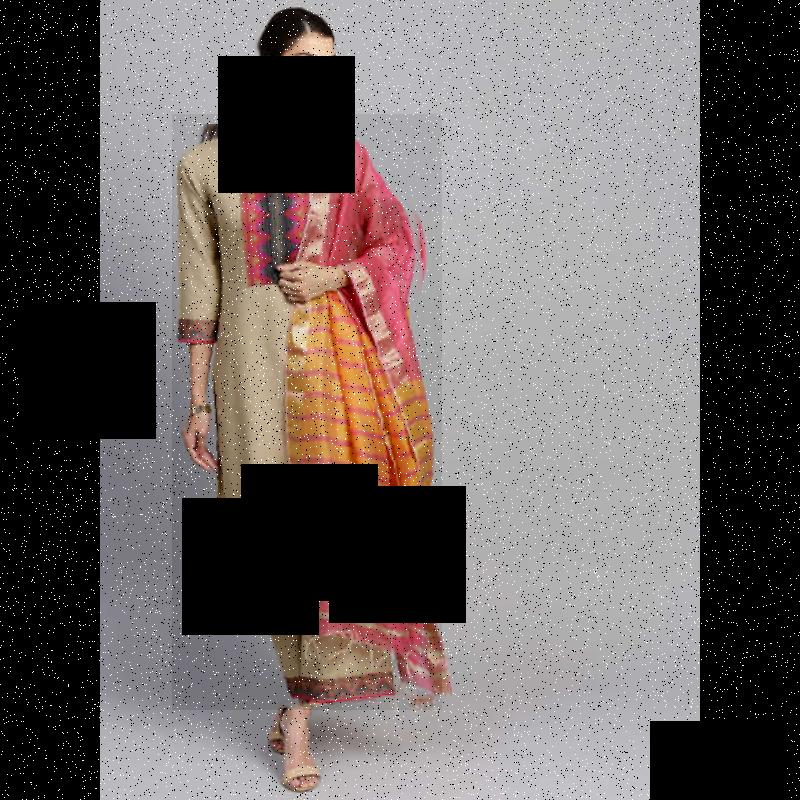Churidaar: (172, 114, 442, 710)
